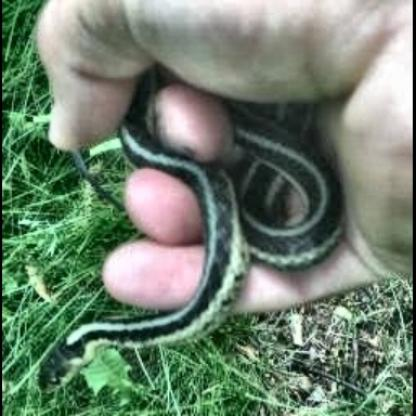Snake: (36, 89, 414, 395)
